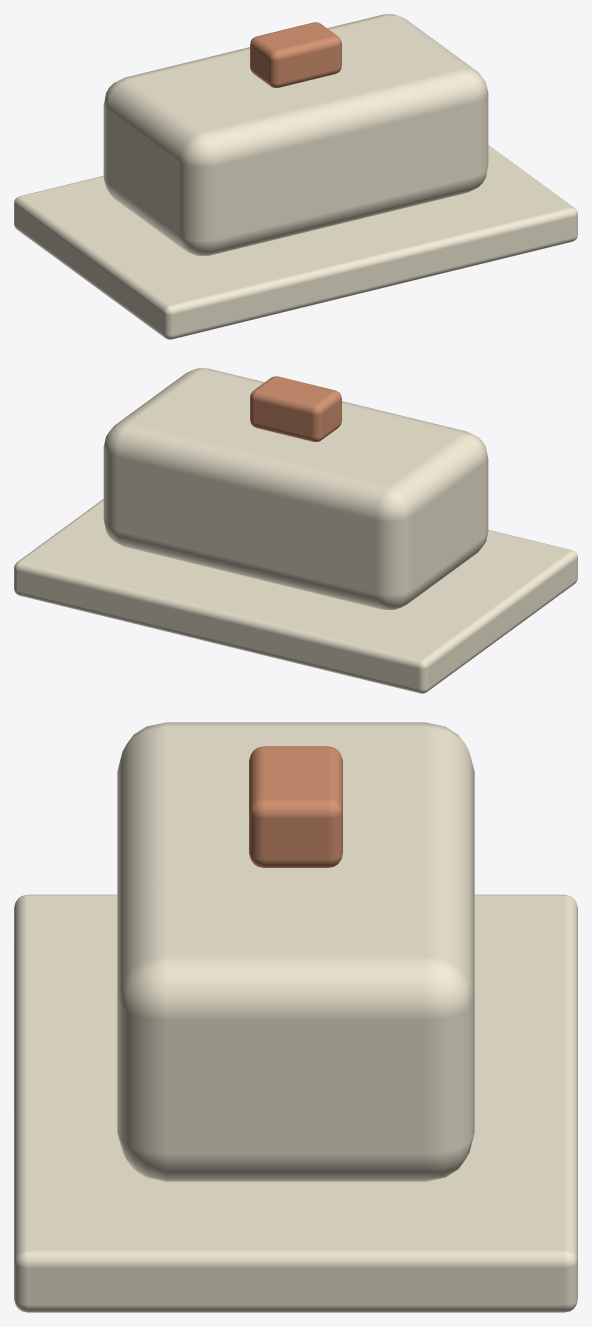
File: ceramics-pottery-studio-butter-dish-9b071667__29522.glb
3 views of the same model, one above another, from view 1: azimuth 30°, elevation 25°; view 2: azimuth 150°, elevation 25°; view 3: azimuth 270°, elevation 25° (orthographic). The views are drawn at different scales.
Parts seen in each view (by area): view 1: butter-dish; view 2: butter-dish; view 3: butter-dish.
Boxes of the visible parts, box(x1,y1,x2,y2) form: butter-dish: box(14, 14, 577, 339); butter-dish: box(14, 368, 577, 693); butter-dish: box(14, 722, 577, 1312).
Size of the model in its own units: 0.23 by 0.106 by 0.15.
